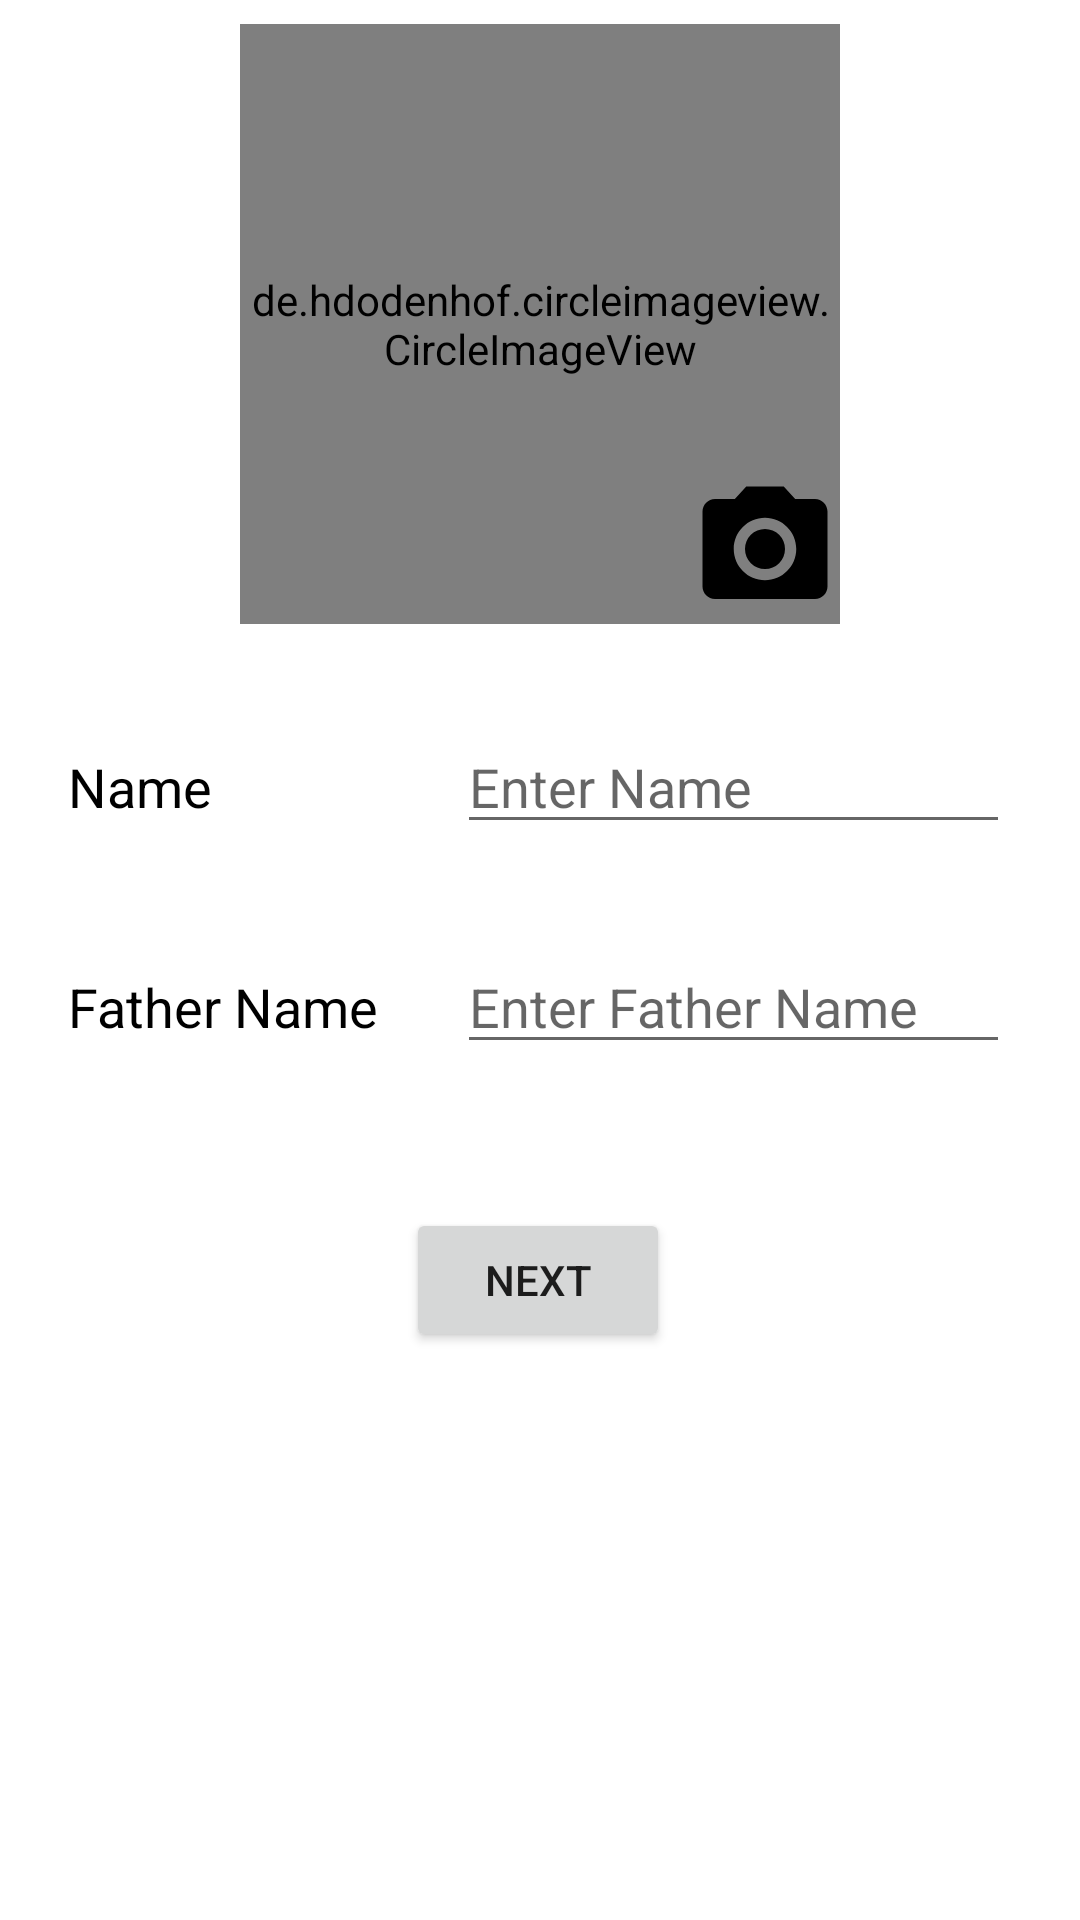

Screen size 1080*1920. Icon name, then its center in pixels as (x=x, y=y):
camera: (x=765, y=542)
